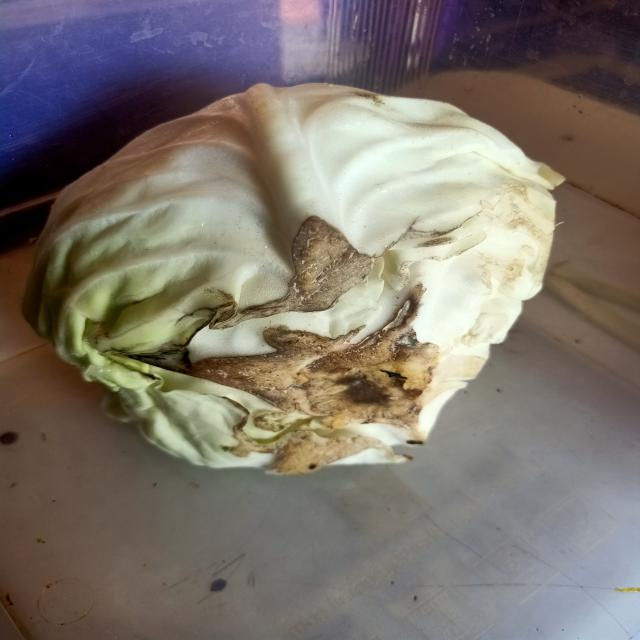Cabbage: (13, 71, 582, 482)
